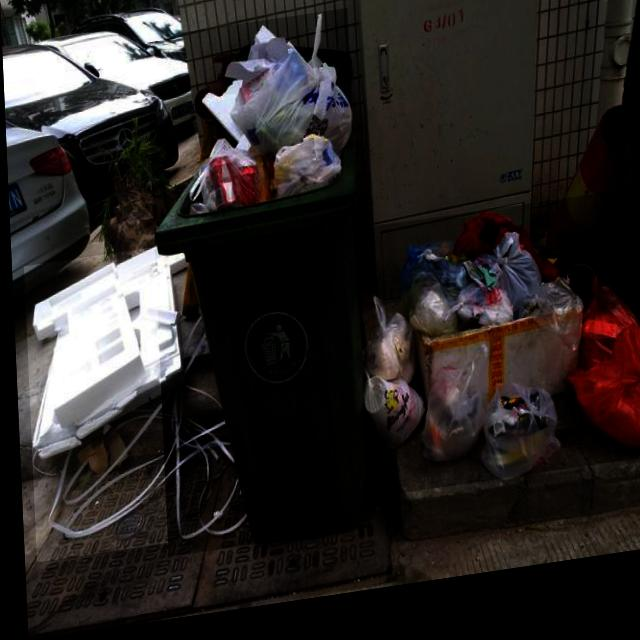garbage: (353, 205, 640, 509), (21, 242, 242, 563)
overflow: (145, 19, 365, 561)
